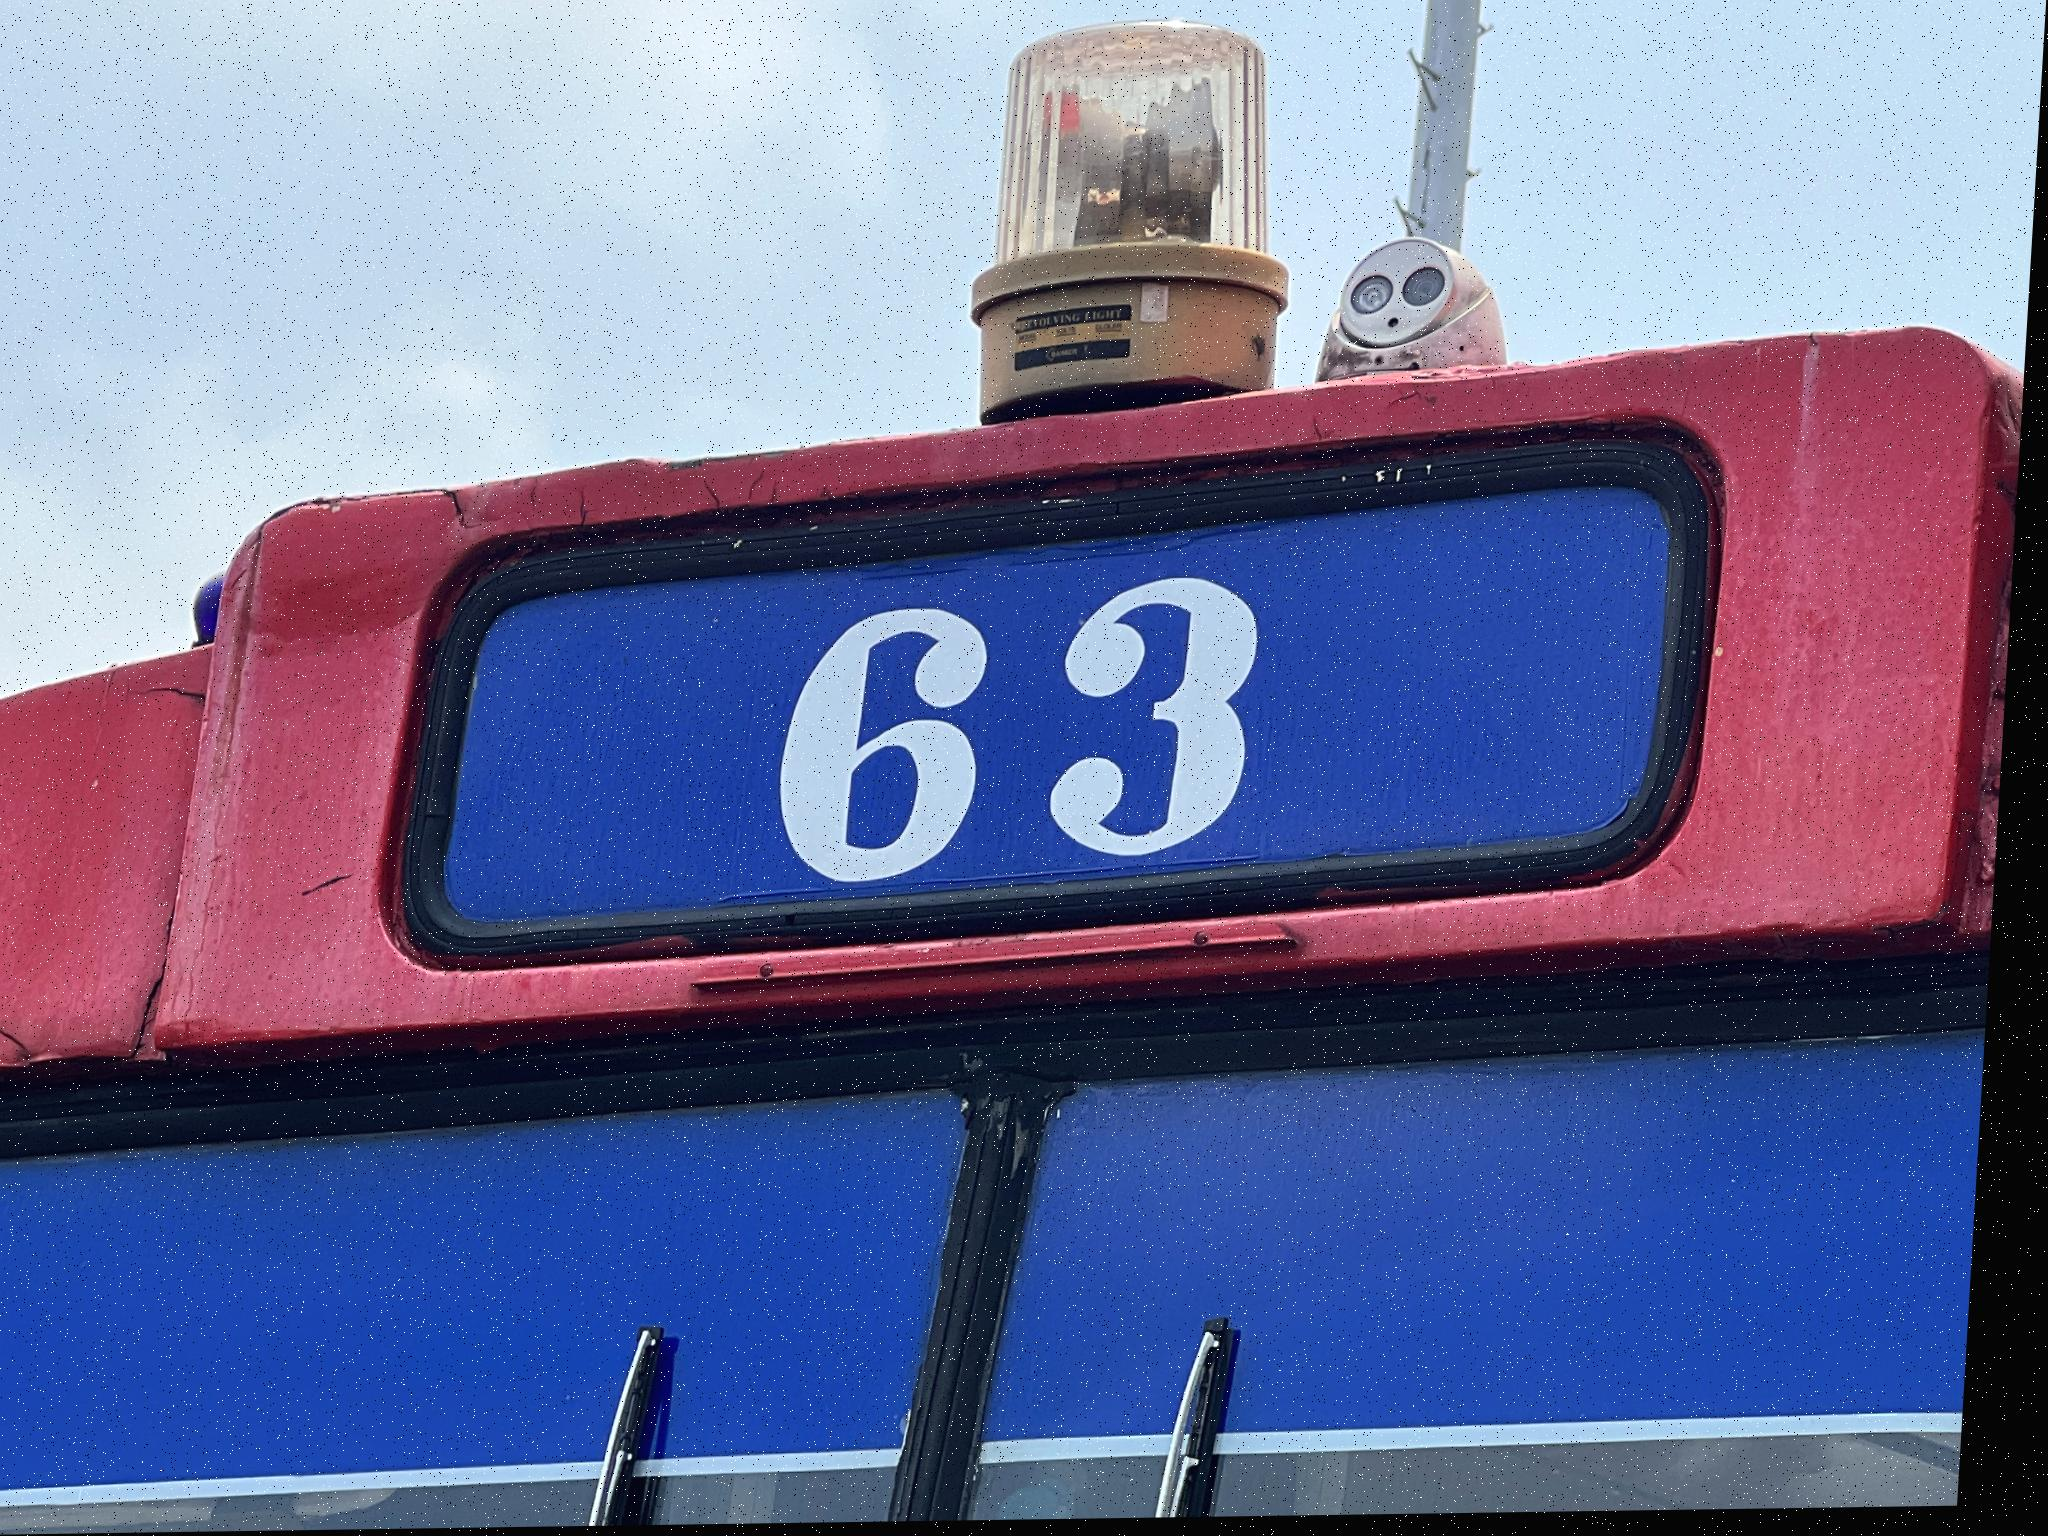BMTA-bus: (0, 8, 2046, 1536)
Bus Line Number: (393, 378, 1771, 976)
